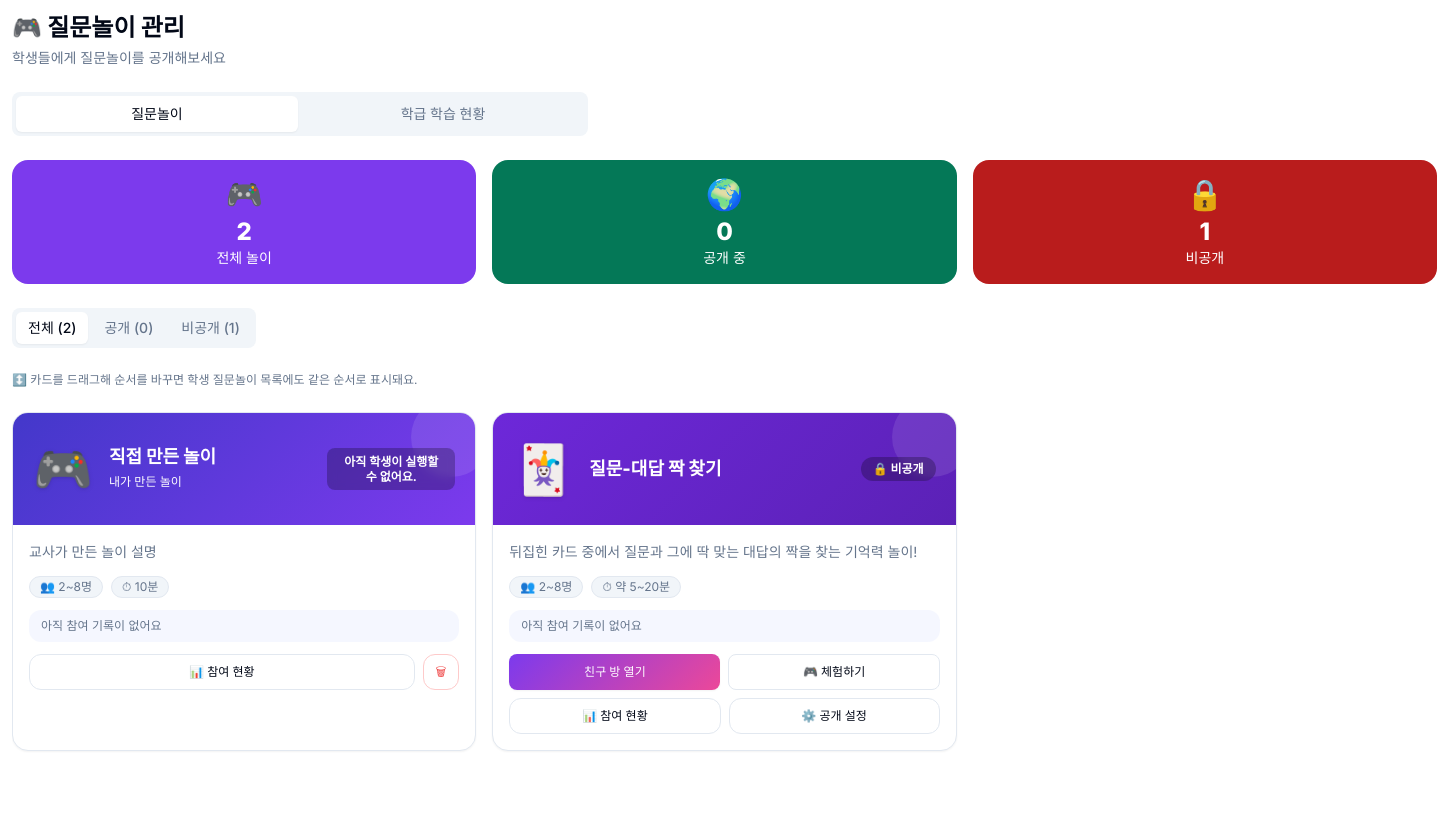
Test: 질문놀이 실행 가능 상태 › 직접 만든 놀이는 저장된 숨김 값과 무관하게 숨김 탭에서 제외한다
Expected: the heading "직접 만든 놀이" is shown, [109,446,216,468]
Step 1. Press the mouse on the tab "비공개 (1)" → (211,328), box [169,312,252,344]
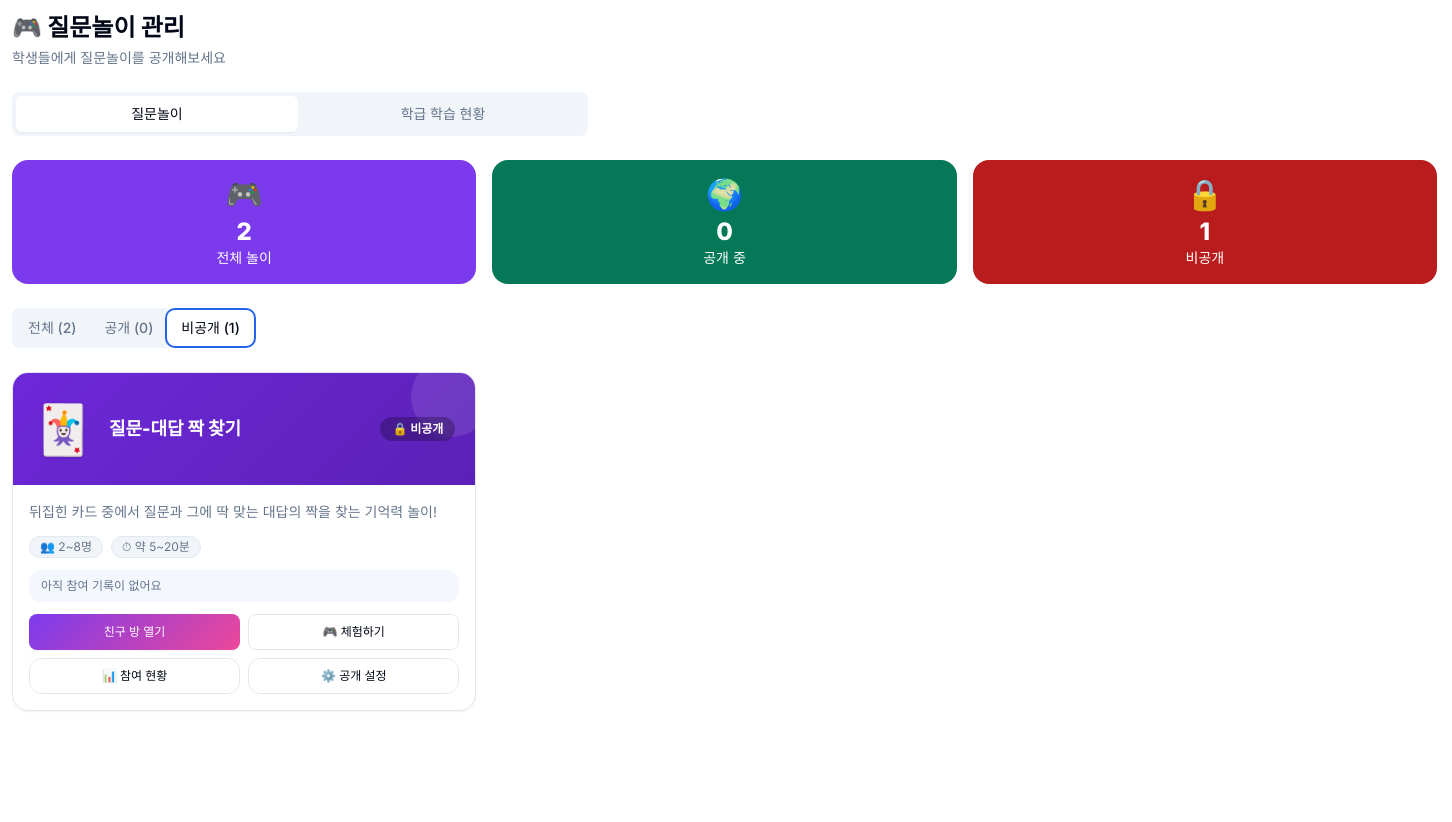
Expected: the heading "질문-대답 짝 찾기" is shown, [109,418,241,440]
Expected: the heading "직접 만든 놀이" is gone
